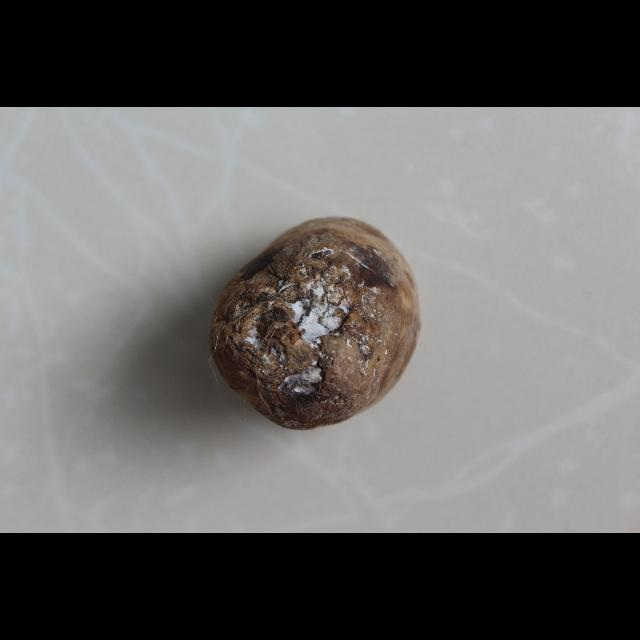Diseased-fungal potato: (212, 204, 430, 426)
